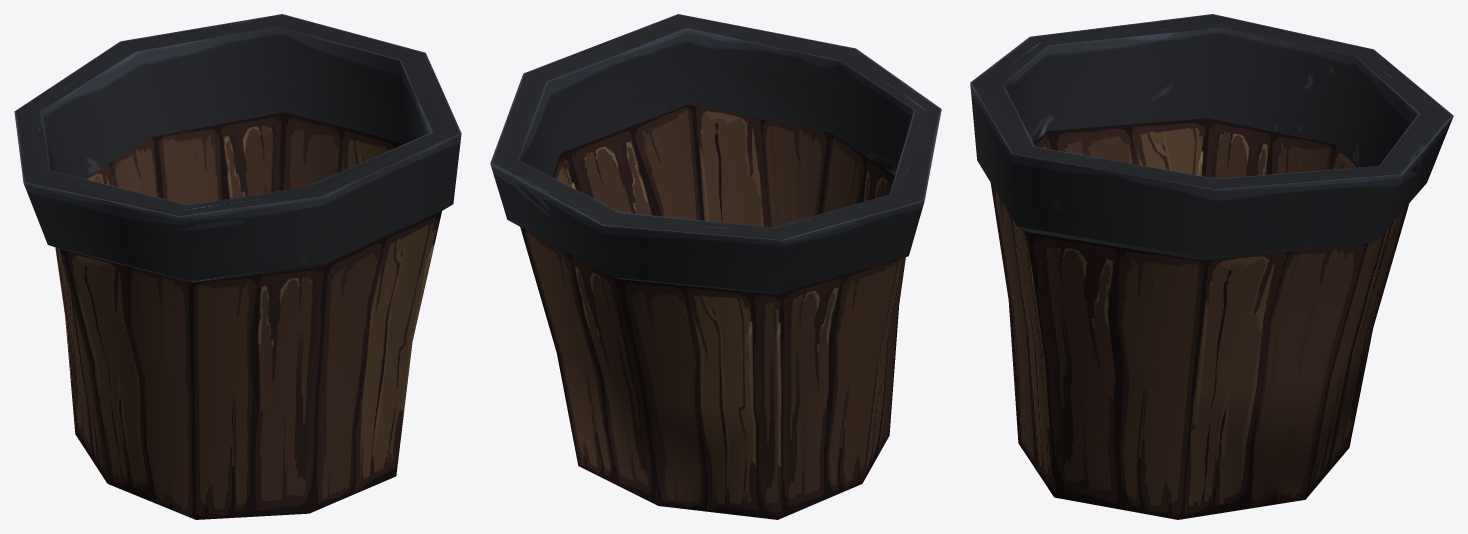
File: SM_PROP_bucket_dungeon_02.fbx
The picture shows the model from 3 angles, left to right: view 1: azimuth 30°, elevation 25°; view 2: azimuth 150°, elevation 25°; view 3: azimuth 270°, elevation 25°; orthographic projection. The views are drawn at different scales.
Visible parts, largest first — view 1: SM_PROP_bucket_dungeon_02; view 2: SM_PROP_bucket_dungeon_02; view 3: SM_PROP_bucket_dungeon_02.
Part boxes in pixels (x1,y1,x2,y2): SM_PROP_bucket_dungeon_02: (14,14,461,519); SM_PROP_bucket_dungeon_02: (490,14,941,519); SM_PROP_bucket_dungeon_02: (970,14,1453,519).
Size of the model in its own units: 49.72 by 40.91 by 48.75.
